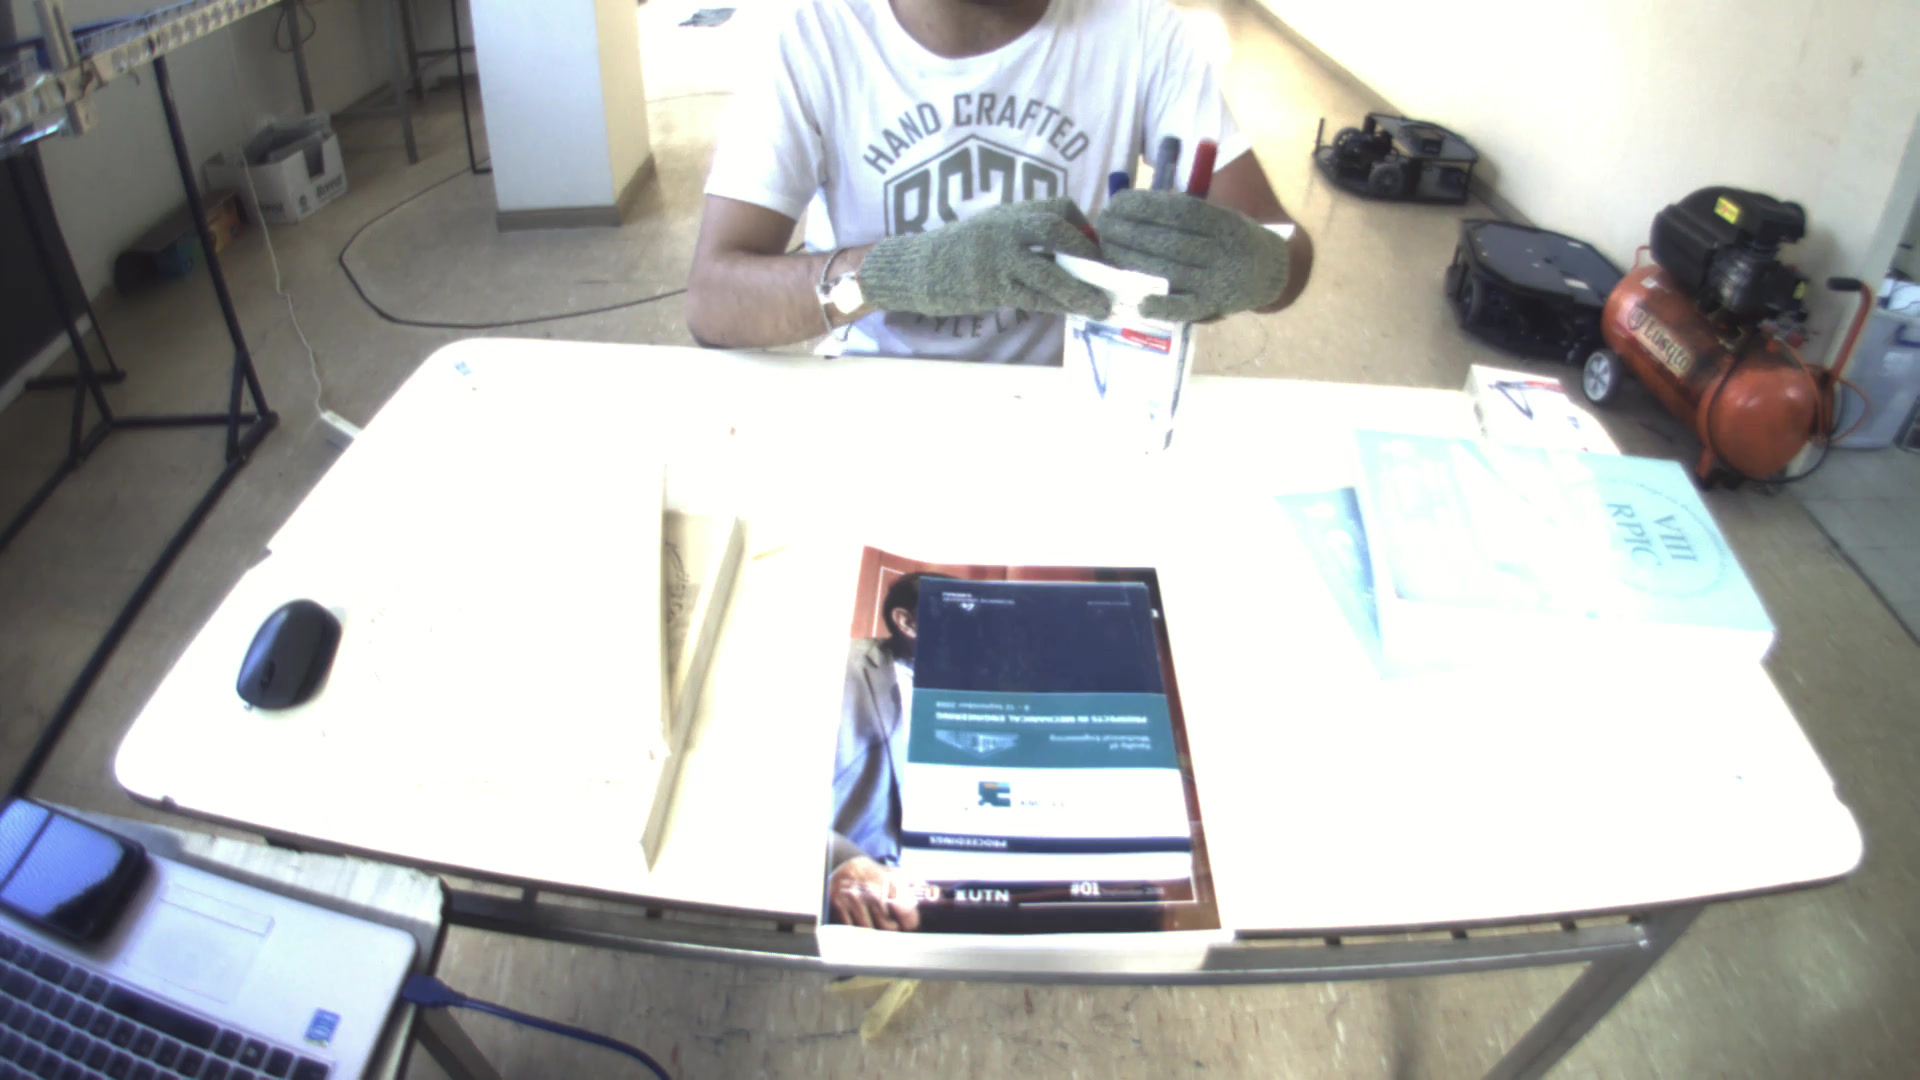hand: (841, 190, 1117, 327), (1093, 160, 1299, 328)
